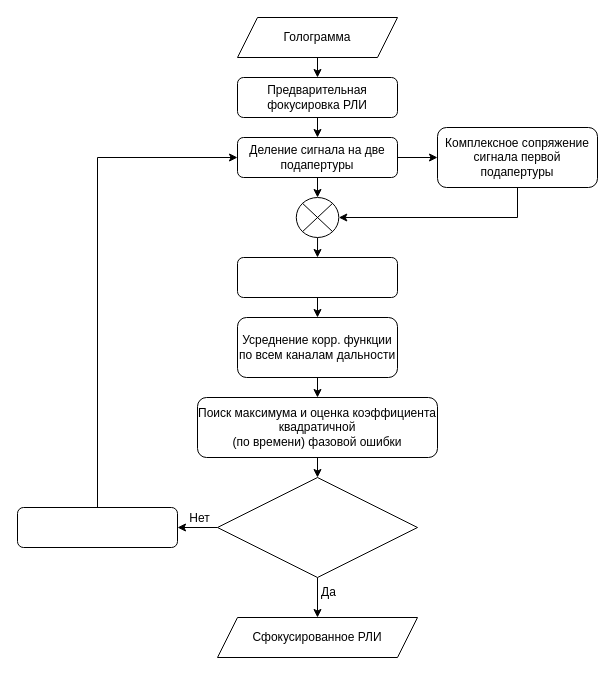
Image size: 615x675. Some labels were removed from this diagram. The centre of each missing label's shape, as x and y in pixels:
"БПФ" belongs at pixel 317 277.
"Достигнута требуема величина ошибки?" belongs at pixel 317 527.
"Дофокусировка изображения" belongs at pixel 97 527.
